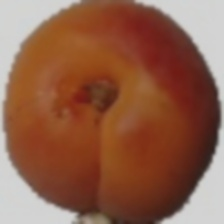apricot: (17, 21, 165, 165)
